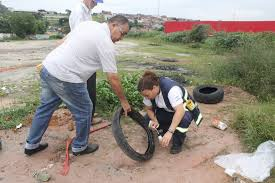tire: (111, 105, 154, 161), (192, 83, 225, 105)
